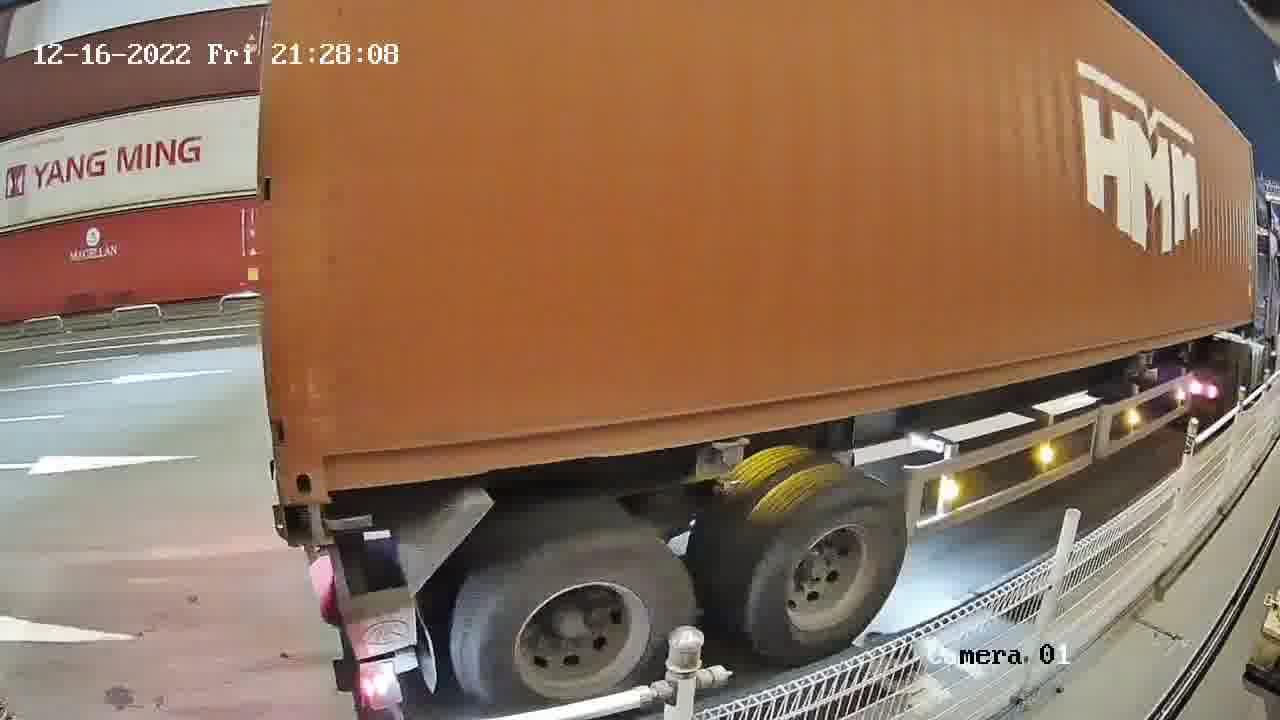Cone: (282, 497, 330, 549)
Hole_L: (274, 414, 373, 502)
Tire: (462, 534, 697, 713), (749, 482, 905, 666)
